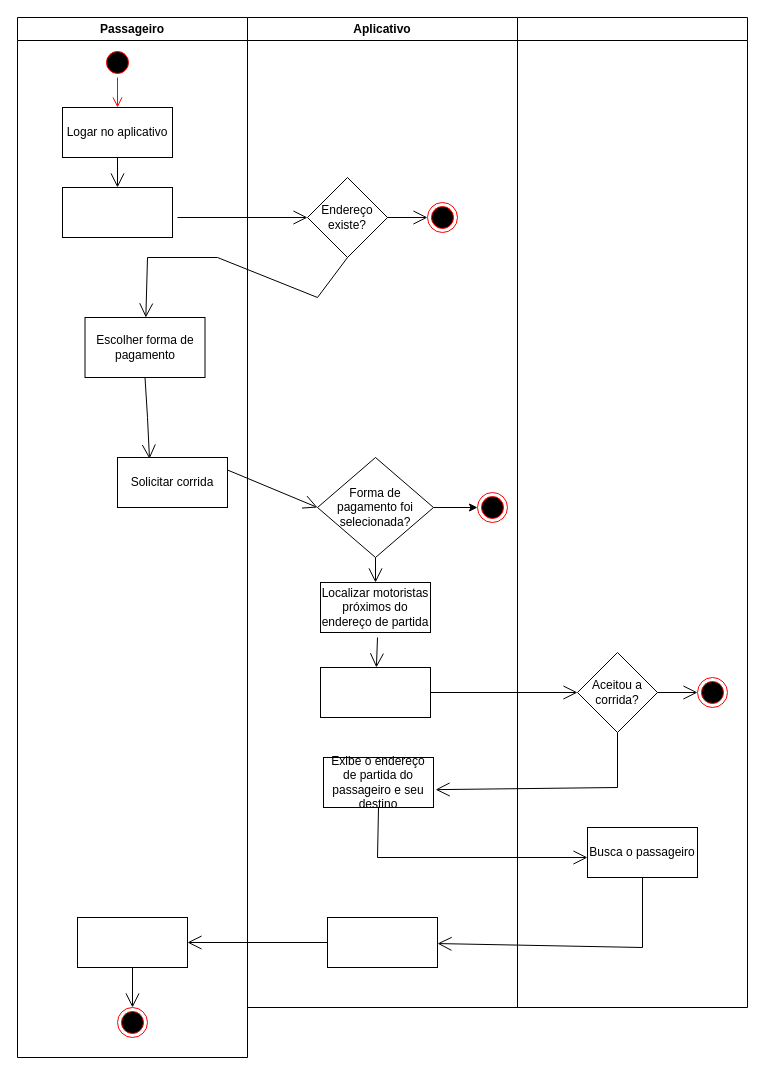
Image size: 765x1075. Some labels were removed from this diagram. The shapes that lost their labels are listed below. From the top down, each one's box as (x1, y1, x2, y2) in pixels, then its label:
(62, 186, 172, 238): Digitar endereço de partida e endereço final
(516, 16, 748, 1008): Motorista
(320, 666, 430, 718): Mandar solicitação de corrida para o motorista
(76, 916, 188, 968): Pega o transporte
(326, 916, 438, 968): Envia notificação dizendo que o transporte chegou
